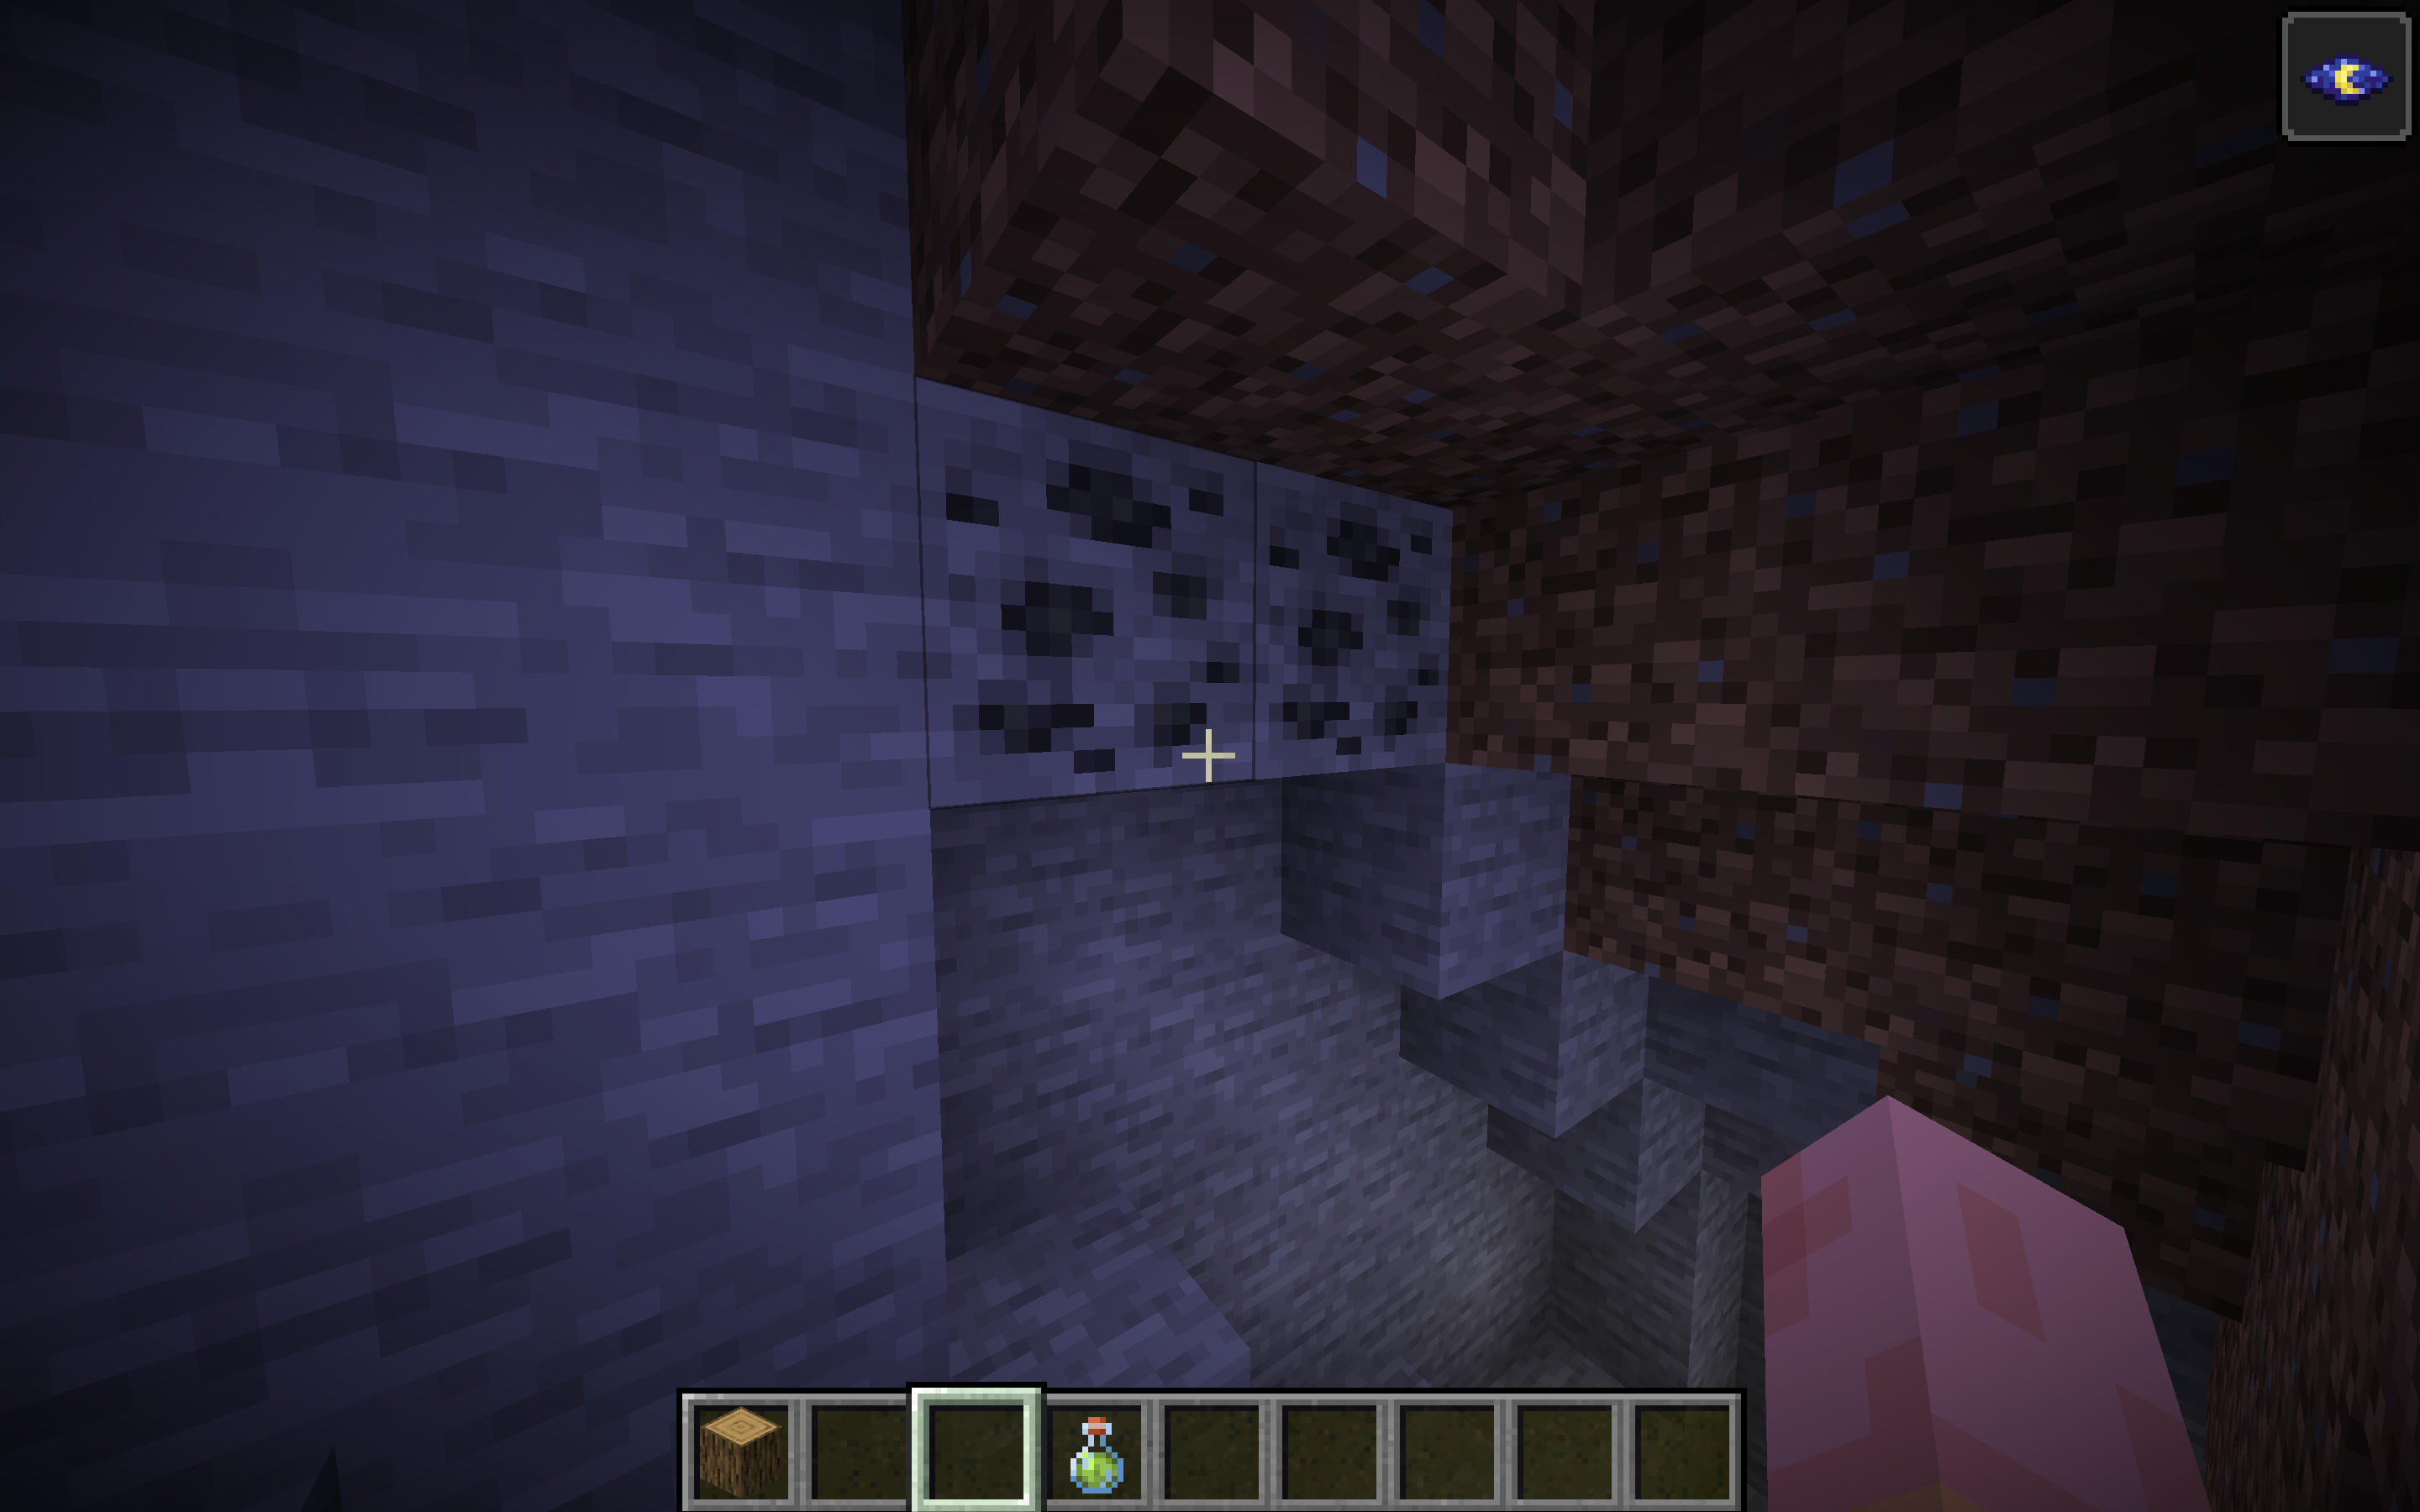coal: (551, 120, 1768, 1016)
